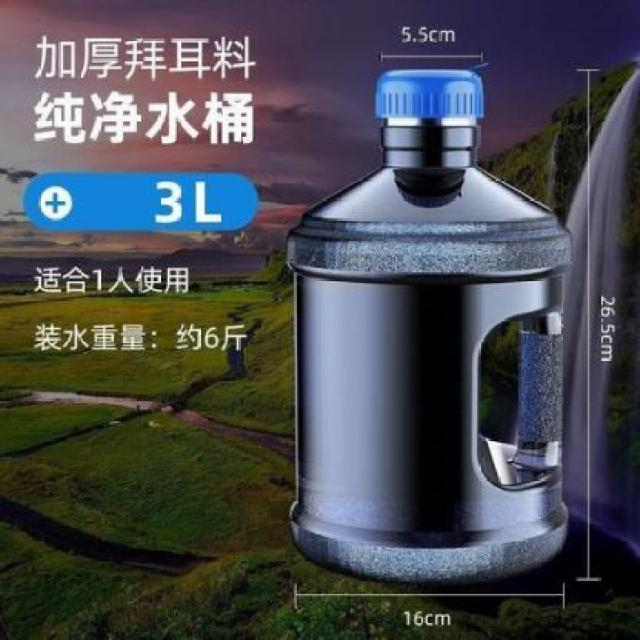coolerbottle: (283, 63, 581, 588)
